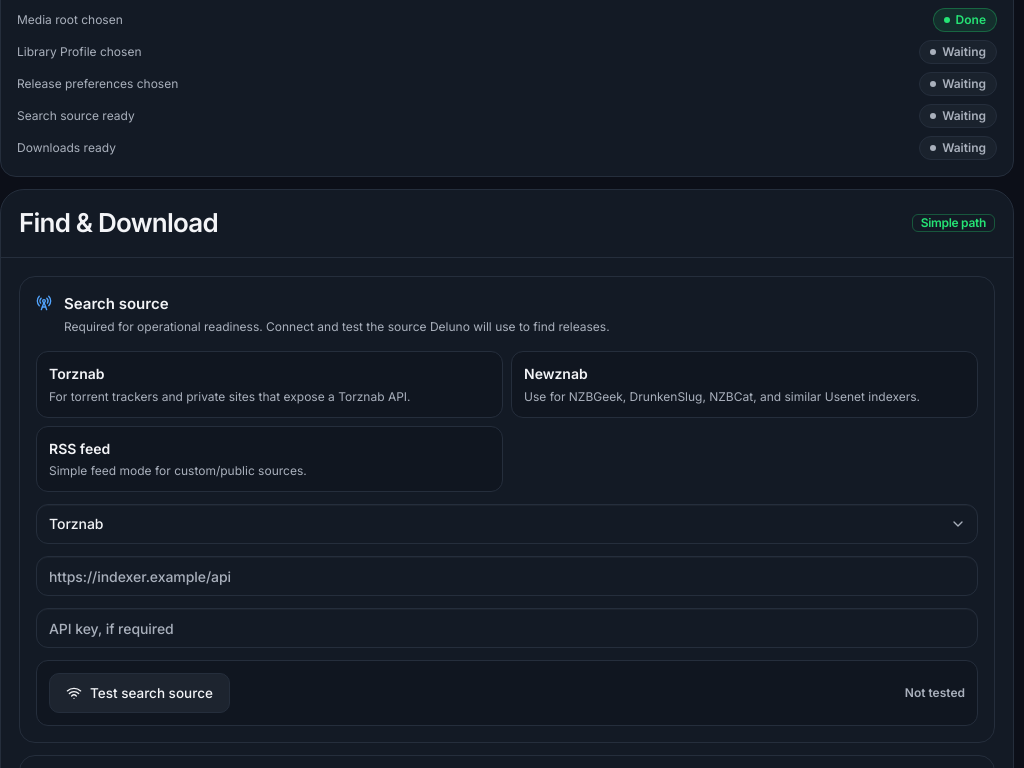
it: the guide shell and step rail, low rows (#1329) › choosing a search-source preset fills the protocol and the example address, and the protocol list offers Torznab, Newznab and RSS
(page scrolled)
Click the radio button labelled "Newznab" at x=556, y=374, box [511,351,978,418]
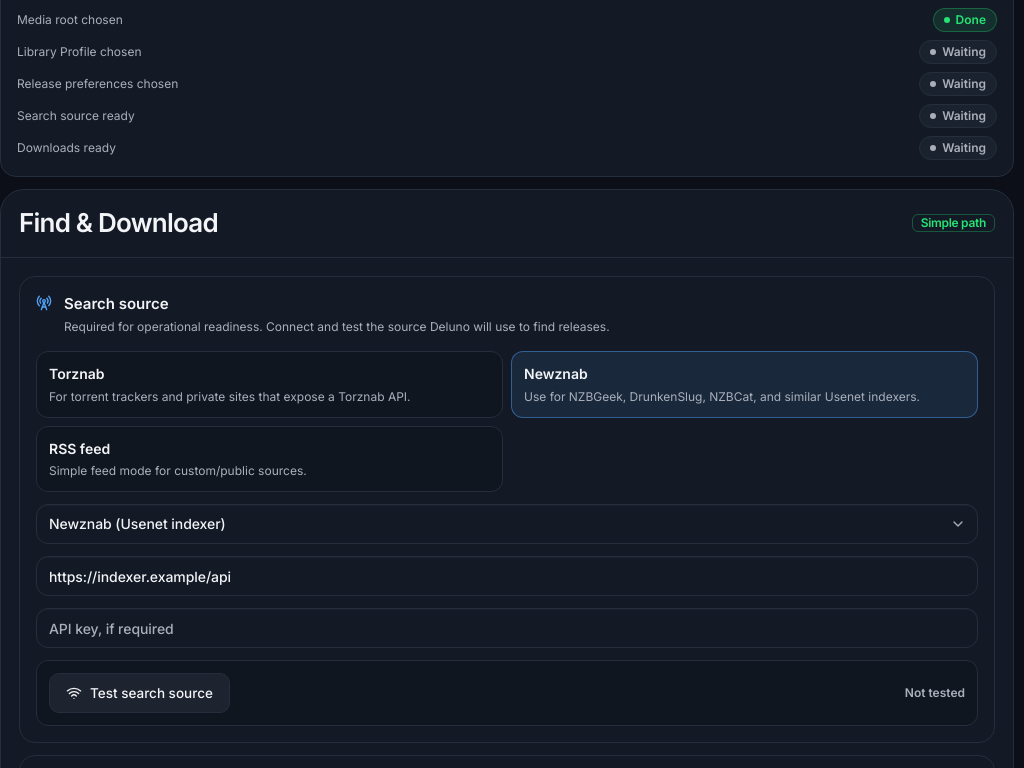
Expected: the field labelled "Indexer URL" holds "https://indexer.example/api", [36,556,978,596]
Expected: the dropdown labelled "Indexer protocol" shows "Newznab (Usenet indexer)", [36,504,978,544]
Click the radio button labelled "RSS feed Simple feed mode for custom/public sources." at x=80, y=448, box [36,426,503,492]
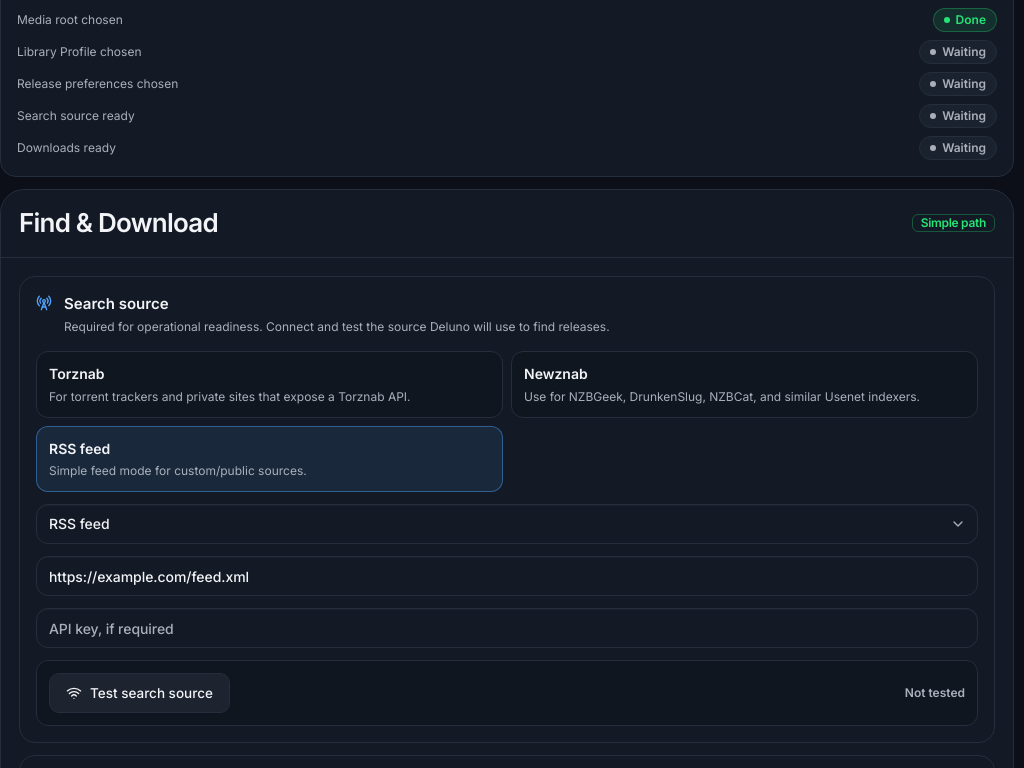
Expected: the field labelled "Indexer URL" holds "https://example.com/feed.xml", [36,556,978,596]
Expected: the dropdown labelled "Indexer protocol" shows "RSS feed", [36,504,978,544]
